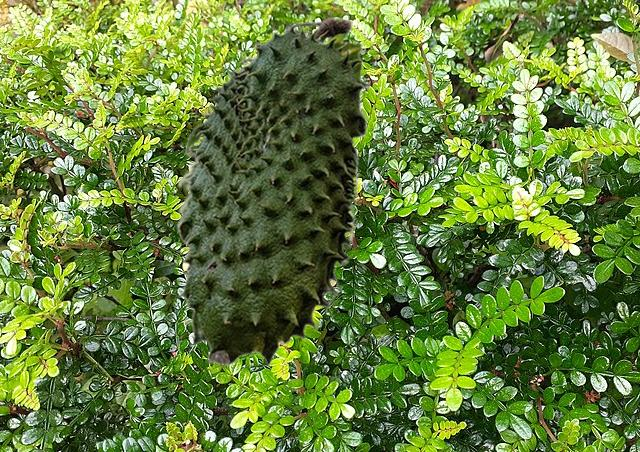guyabano: (175, 16, 369, 366)
